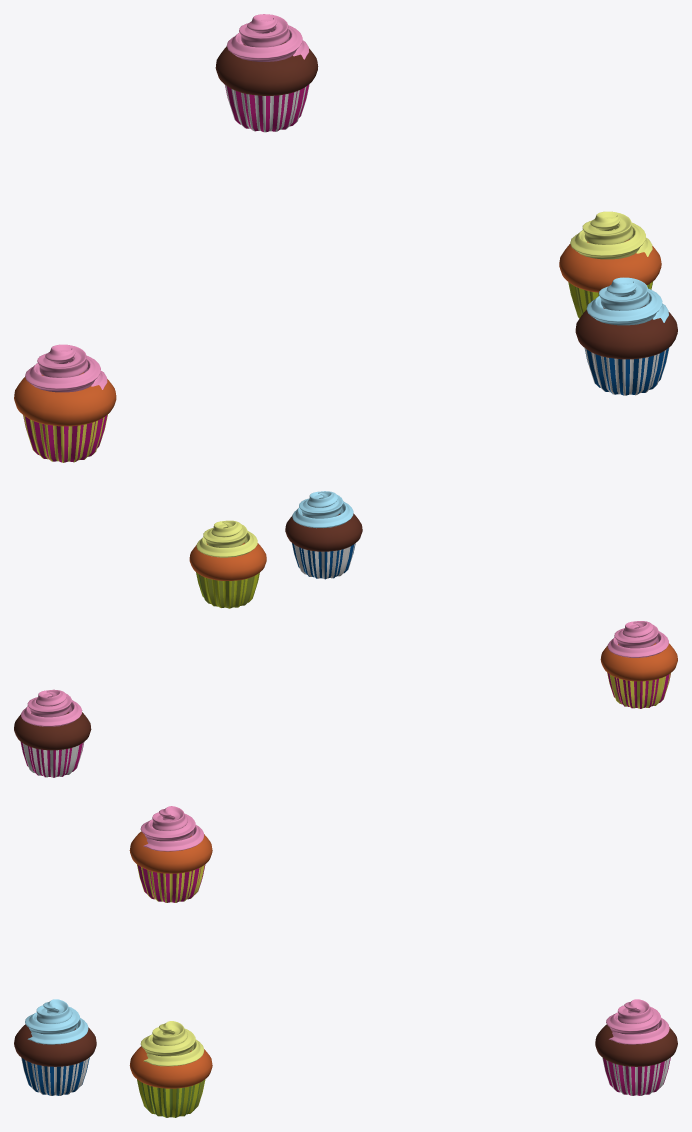
The model's file is Cupcakes.fbx.
3 views of the same model, one above another, from view 1: azimuth 30°, elevation 25°; view 2: azimuth 150°, elevation 25°; view 3: azimuth 270°, elevation 25° (orthographic). The views are drawn at different scales.
Parts seen in each view (by area): view 1: Circle.007, Circle.014, Circle.021, Circle.028, Spiral.003, Spiral.002, Spiral.001, Spiral, Circle.026, Circle.019, Circle.012, Circle.020 (+2 smaller); view 2: Circle.007, Circle.014, Circle.021, Circle.028, Spiral.003, Spiral, Spiral.001, Spiral.002, Circle.010, Circle.017, Circle.024, Circle.031 (+4 smaller); view 3: Spiral, Spiral.001, Spiral.002, Spiral.003, Circle.021, Circle.028, Circle.007, Circle.014, Circle.029, Circle.022, Circle.008, Circle.015 (+4 smaller).
Part boxes in pixels (x1,y1,x2,y2): Circle.007: [215, 42, 318, 95]; Circle.014: [575, 305, 677, 359]; Circle.021: [14, 372, 116, 426]; Circle.028: [559, 239, 661, 292]; Spiral.003: [570, 211, 652, 259]; Spiral.002: [25, 344, 107, 392]; Spiral.001: [586, 277, 668, 325]; Spiral: [226, 14, 308, 61]; Circle.026: [25, 416, 95, 462]; Circle.019: [586, 349, 657, 395]; Circle.012: [226, 86, 297, 131]; Circle.020: [24, 416, 94, 462]; Circle.007: [14, 712, 91, 750]; Circle.014: [285, 513, 362, 551]; Circle.021: [600, 643, 677, 681]; Circle.028: [189, 543, 266, 580]; Spiral.003: [196, 520, 257, 557]; Spiral: [21, 689, 82, 726]; Spiral.001: [292, 491, 353, 528]; Spiral.002: [607, 621, 668, 657]; Circle.010: [24, 744, 76, 777]; Circle.017: [295, 545, 347, 578]; Circle.024: [610, 675, 662, 708]; Circle.031: [199, 575, 251, 608]; Spiral: [606, 999, 669, 1044]; Spiral.001: [25, 999, 88, 1044]; Spiral.002: [140, 806, 204, 851]; Spiral.003: [140, 1021, 204, 1066]; Circle.021: [129, 831, 212, 873]; Circle.028: [129, 1046, 212, 1088]; Circle.007: [595, 1024, 677, 1066]; Circle.014: [14, 1024, 96, 1066]; Circle.029: [143, 1083, 199, 1117]; Circle.022: [143, 868, 199, 902]; Circle.008: [608, 1061, 664, 1095]; Circle.015: [27, 1061, 83, 1095].
Size of the model in its own units: 5653 by 876 by 6348.
1 material, 1 textured.
